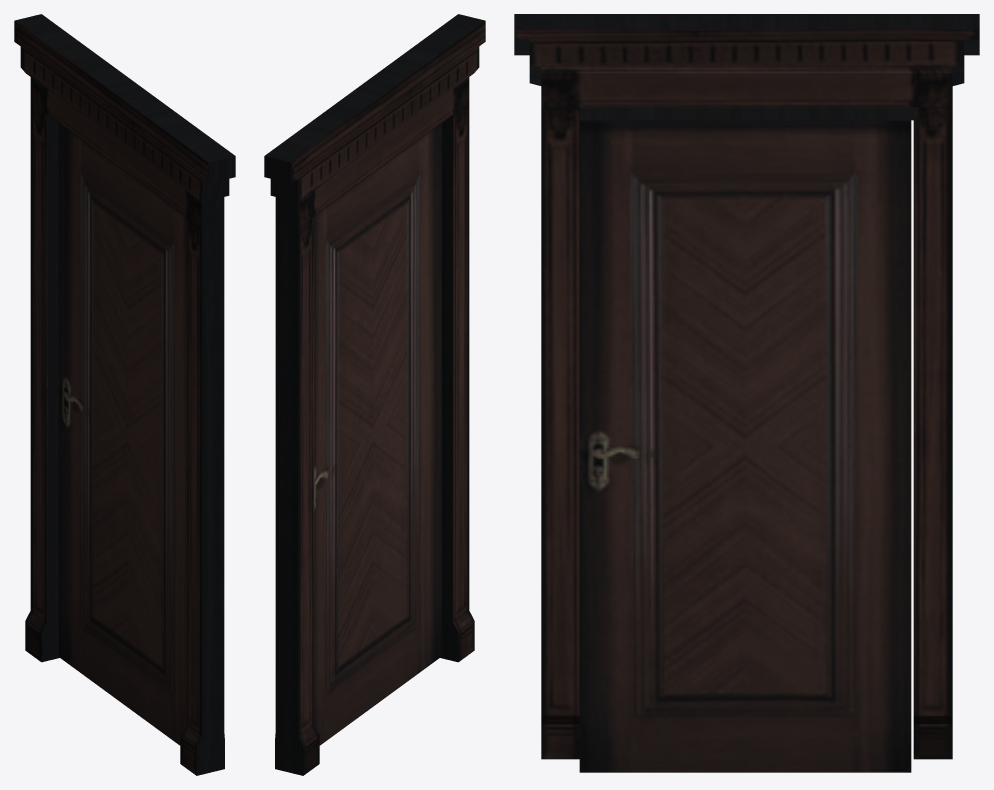
Rendered from door.obj.
The picture shows the model from 3 angles, left to right: view 1: azimuth 30°, elevation 25°; view 2: azimuth 150°, elevation 25°; view 3: azimuth 270°, elevation 25°; orthographic projection. The views are drawn at different scales.
Parts seen in each view (by area): view 1: doorFrame; view 2: doorFrame; view 3: doorFrame.
Part boxes in pixels (x1=…): doorFrame: x1=14, y1=14, x2=235, y2=775; doorFrame: x1=264, y1=14, x2=485, y2=775; doorFrame: x1=514, y1=14, x2=979, y2=772.
Size of the model in its own units: 0.105 by 2.21 by 1.25.
Materials: 1 (1 with a texture image).
